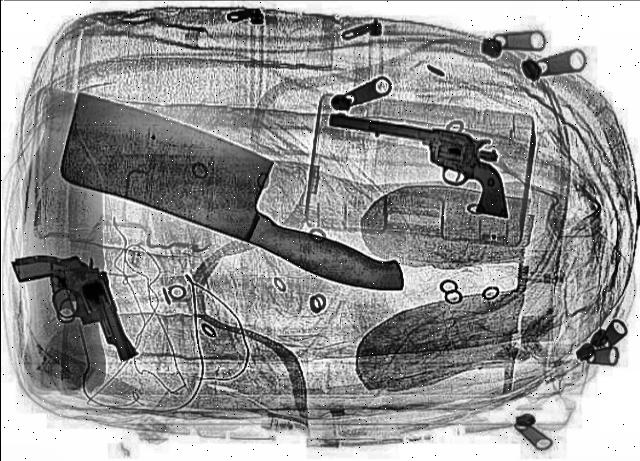Gun: (303, 82, 555, 220), (10, 242, 140, 368)
Knife: (14, 84, 458, 302)
